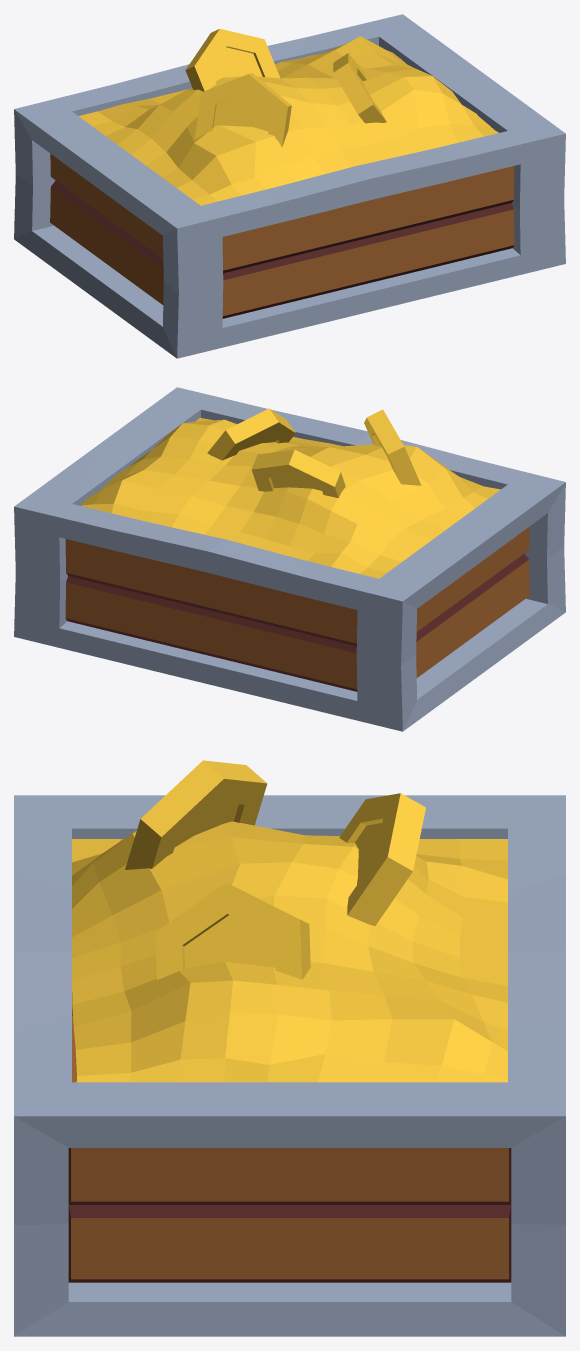
File: chest_bottom.fbx
The picture shows the model from 3 angles, top to bottom: view 1: azimuth 30°, elevation 25°; view 2: azimuth 150°, elevation 25°; view 3: azimuth 270°, elevation 25°; orthographic projection. The views are drawn at different scales.
Visible parts, largest first — view 1: chest's gold; view 2: chest's gold; view 3: chest's gold.
Part boxes in pixels (x1,y1,x2,y2): chest's gold: [14, 14, 565, 358]; chest's gold: [14, 387, 565, 731]; chest's gold: [14, 760, 565, 1336].
Bounding box in the file's own units: 128 × 93.22 × 67.1.
